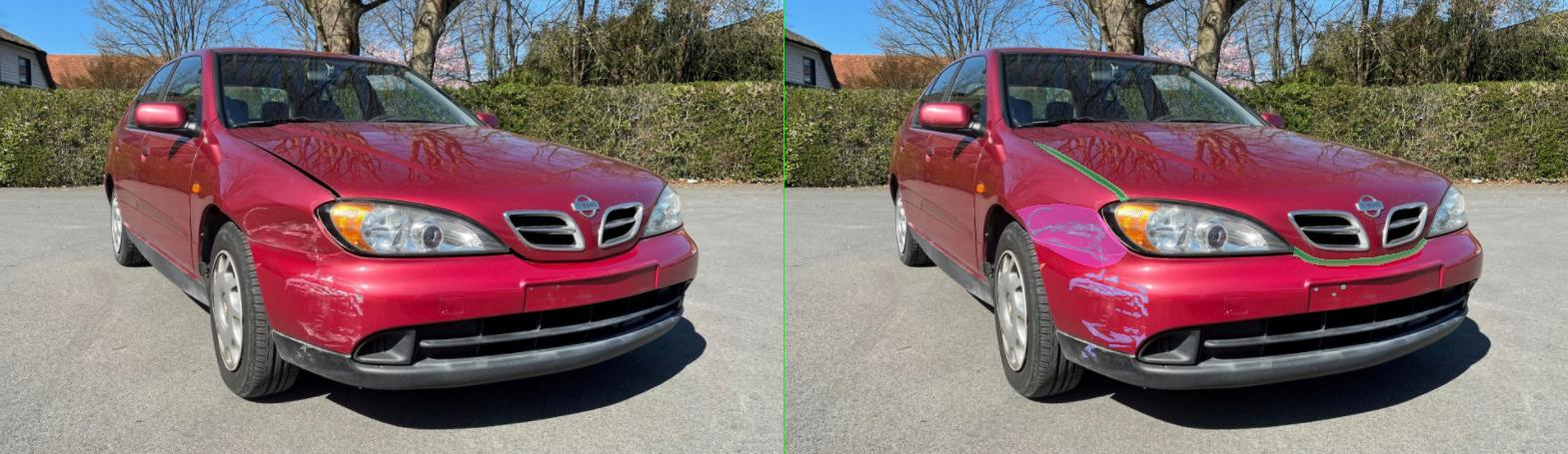Broken part: (498, 142, 688, 201), (1018, 237, 1286, 265)
Dent: (462, 204, 684, 267)
Flaking: (1114, 284, 1122, 288), (1060, 287, 1066, 290), (1096, 292, 1102, 295)
Paint chip: (510, 263, 520, 269)
Scratch: (484, 208, 642, 242), (570, 277, 728, 302), (596, 319, 696, 342), (522, 237, 604, 250), (596, 243, 648, 261), (684, 296, 728, 316), (608, 283, 662, 295), (682, 283, 724, 293), (692, 332, 722, 346), (602, 269, 640, 279), (600, 344, 622, 356), (680, 326, 708, 334), (642, 276, 668, 282), (696, 311, 712, 317), (650, 344, 692, 346), (674, 310, 694, 314), (594, 351, 606, 357), (662, 308, 672, 311)
